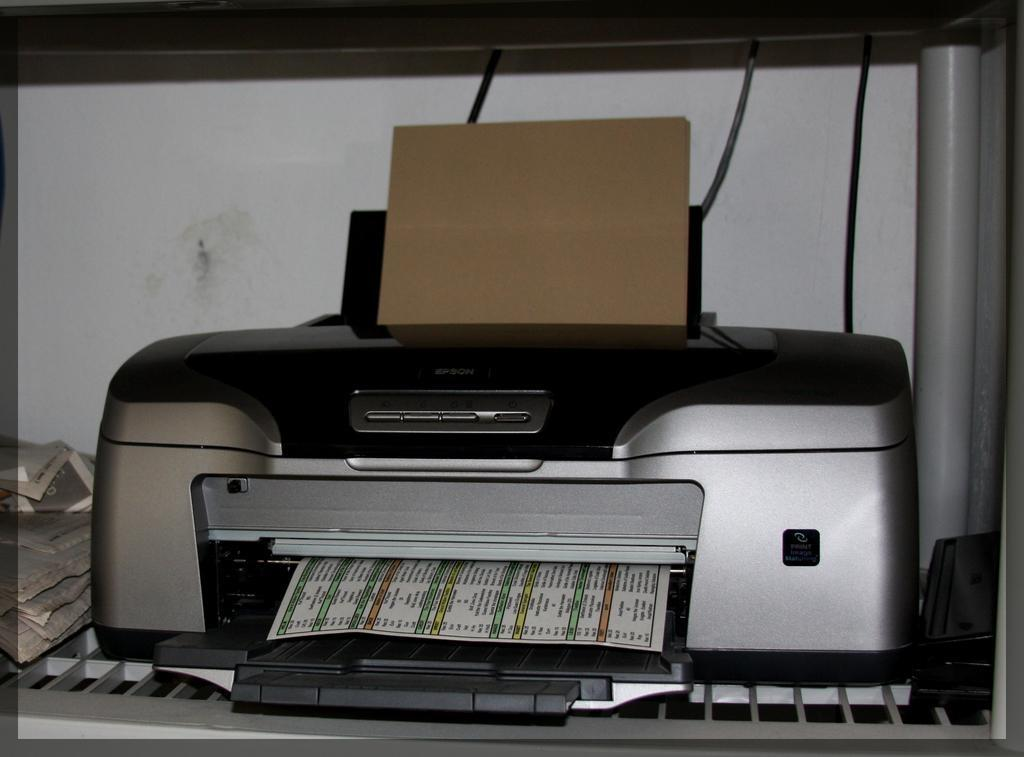Printer: (89, 117, 914, 711)
